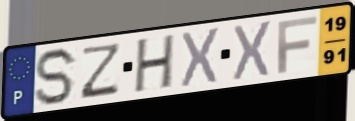F: (276, 14, 319, 75)
H: (132, 32, 178, 96)
S: (33, 46, 80, 108)
X: (231, 18, 274, 83), (179, 25, 222, 90)
Z: (78, 41, 125, 101)
